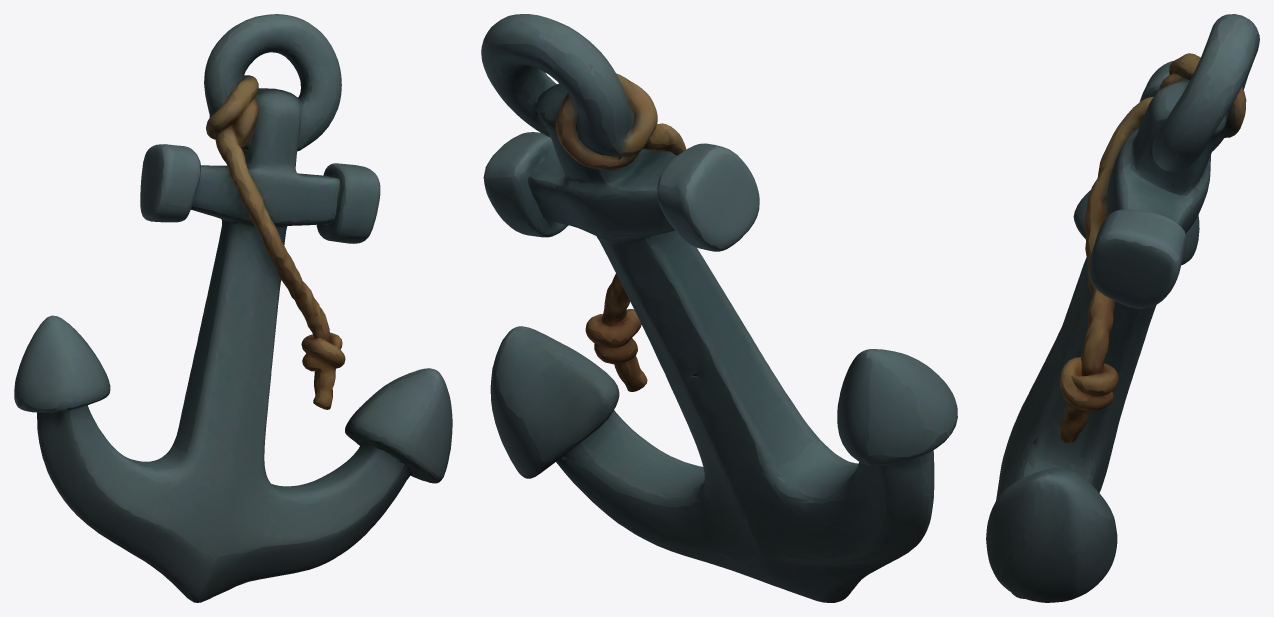
File: x-anchor.glb
3 views of the same model, side by side, from view 1: azimuth 30°, elevation 25°; view 2: azimuth 150°, elevation 25°; view 3: azimuth 270°, elevation 25° (orthographic). The views are drawn at different scales.
Visible parts, largest first — view 1: geometry_0; view 2: geometry_0; view 3: geometry_0.
Part boxes in pixels (box(x1,y1,x2,y2)): geometry_0: box(14, 14, 452, 602); geometry_0: box(481, 14, 957, 602); geometry_0: box(986, 14, 1259, 602).
Size of the model in its own units: 0.2967 by 0.35 by 0.1448.
Materials: 1 (1 with a texture image).
